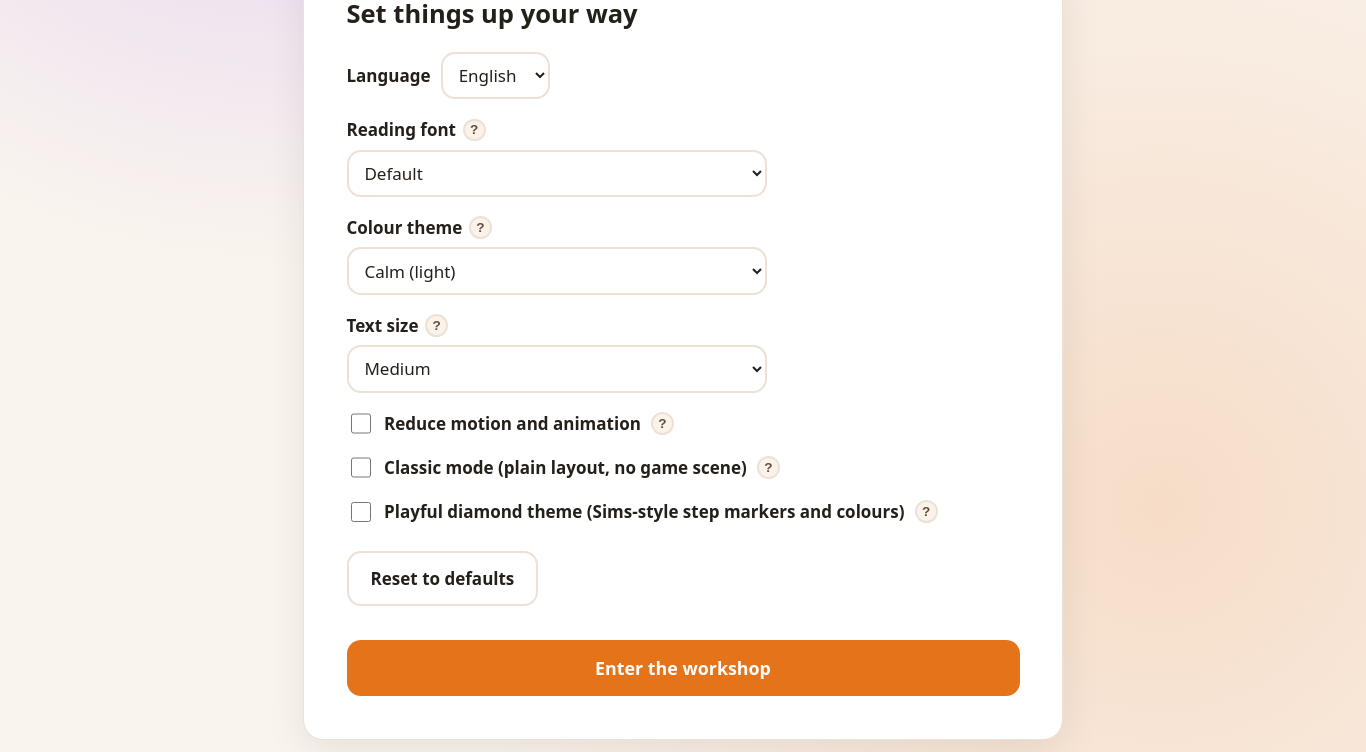
Test: WelcomeScreen (Step 1) › resets preferences to defaults after confirmation
(page scrolled)
// Change something away from the default first.
Select "Extra large" in the dropdown labelled "Text size ?" at (556, 369), box [346,345,766,393]
(page scrolled)
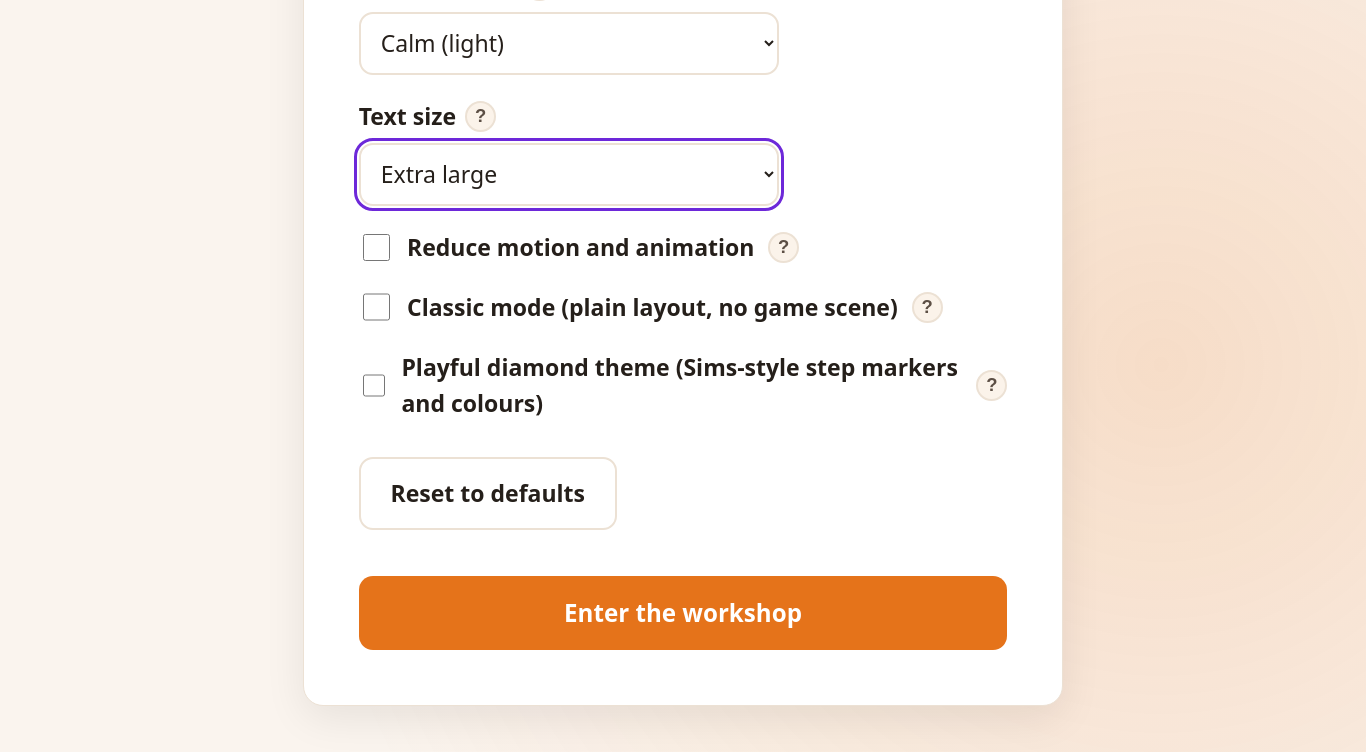
// Open the confirmation dialog and confirm.
Click the button "Reset to defaults" at (488, 493), box [359,457,617,530]
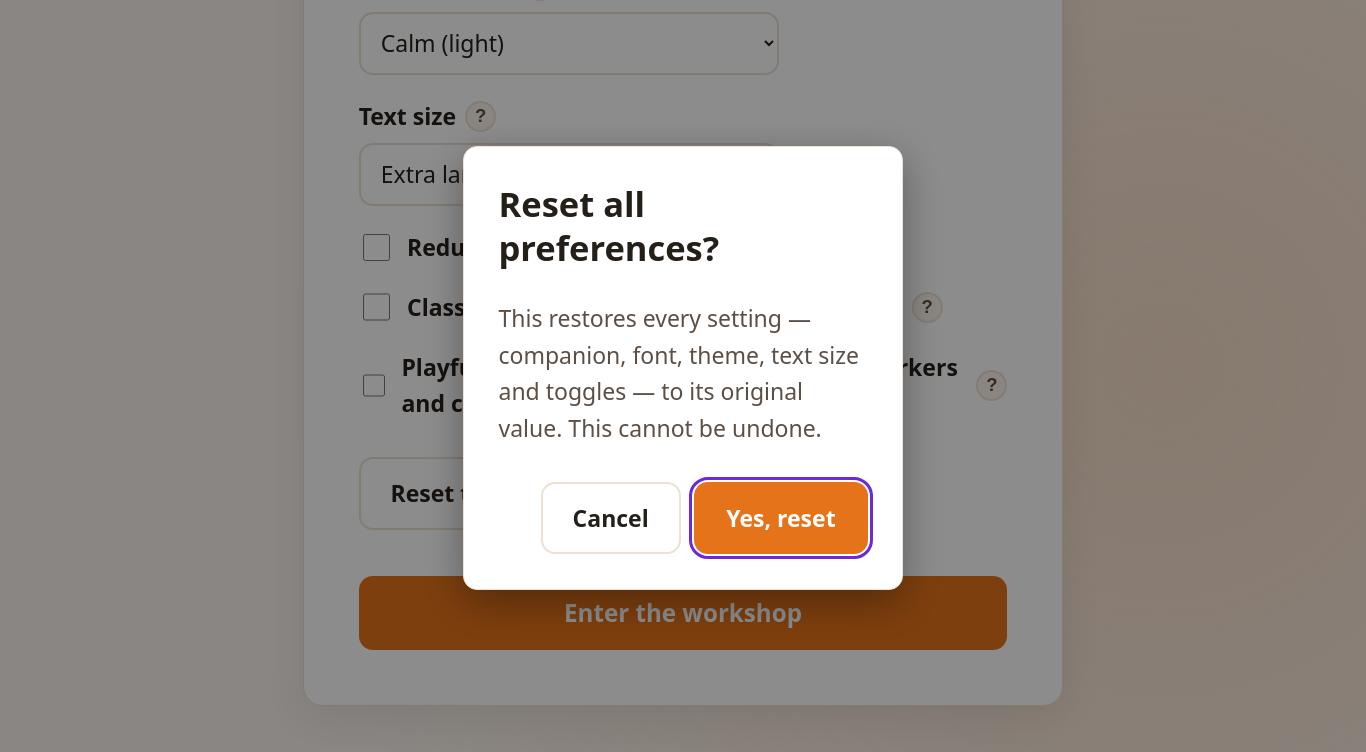
Expected: the dialog is shown, [463,146,903,590]
Click the button "Yes, reset" at (781, 518), box [694,482,868,554]
(page scrolled)
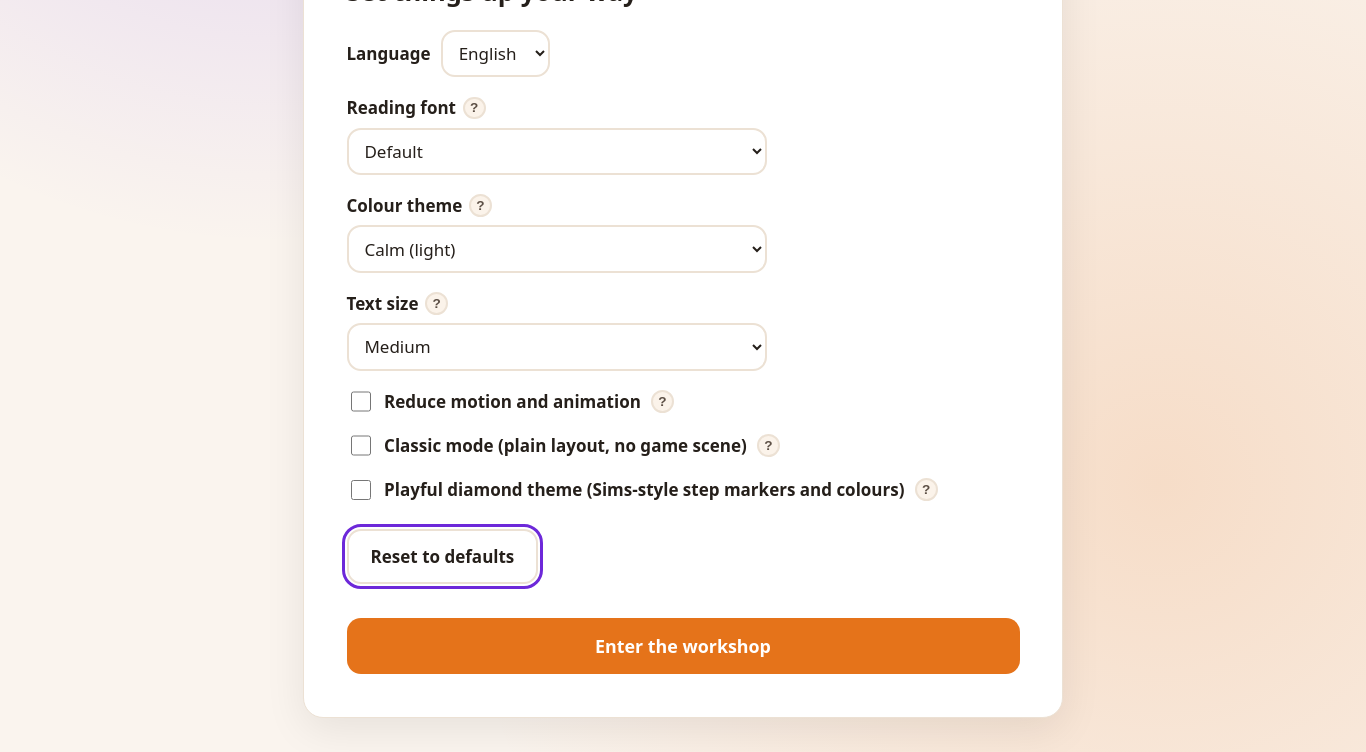
Expected: the dialog is gone
